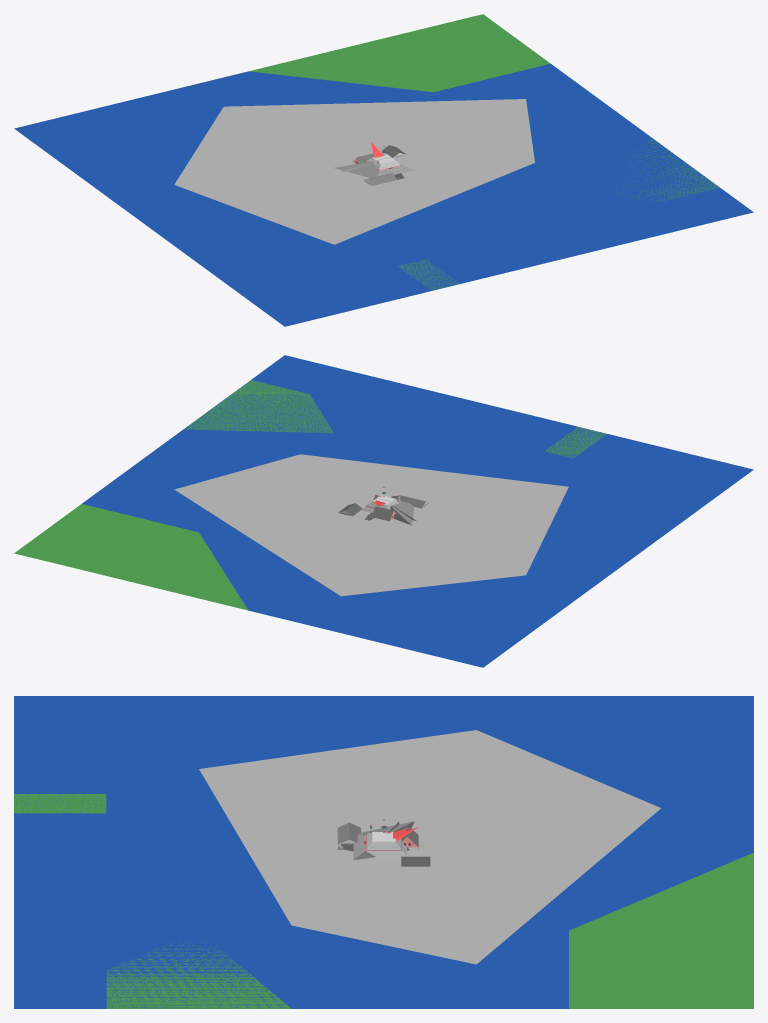
3 views of the same model, one above another, from view 1: azimuth 30°, elevation 25°; view 2: azimuth 150°, elevation 25°; view 3: azimuth 270°, elevation 25° (orthographic). The views are drawn at different scales.
Parts seen in each view (by area): view 1: pg_005_lod0, pg_021_lod0, pg_008_lod0, pg_007_lod0, pg_001_lod0, pg_009_lod0, pg_010_lod0; view 2: pg_005_lod0, pg_021_lod0, pg_008_lod0, pg_007_lod0, pg_001_lod0, pg_009_lod0, pg_040_lod0_s1v0; view 3: pg_005_lod0, pg_021_lod0, pg_008_lod0, pg_007_lod0, pg_001_lod0, pg_003_lod0, pg_043_lod0_s1v0, pg_040_lod0_s1v0, pg_010_lod0.
Part boxes in pixels (<box>): pg_005_lod0: <box>14,64,550,297</box>; pg_021_lod0: <box>174,99,534,244</box>; pg_008_lod0: <box>249,14,719,230</box>; pg_007_lod0: <box>217,14,753,326</box>; pg_001_lod0: <box>400,138,718,290</box>; pg_009_lod0: <box>398,259,460,290</box>; pg_010_lod0: <box>334,161,414,177</box>; pg_005_lod0: <box>82,434,685,667</box>; pg_021_lod0: <box>174,454,568,596</box>; pg_008_lod0: <box>14,380,438,610</box>; pg_007_lod0: <box>14,355,753,553</box>; pg_001_lod0: <box>184,380,605,457</box>; pg_009_lod0: <box>545,427,606,458</box>; pg_040_lod0_s1v0: <box>338,495,429,521</box>; pg_005_lod0: <box>14,696,753,1008</box>; pg_021_lod0: <box>199,730,660,964</box>; pg_008_lod0: <box>106,852,753,1008</box>; pg_007_lod0: <box>14,696,753,1008</box>; pg_001_lod0: <box>14,794,290,1008</box>; pg_003_lod0: <box>14,794,106,813</box>; pg_043_lod0_s1v0: <box>365,832,406,856</box>; pg_040_lod0_s1v0: <box>337,822,418,847</box>; pg_010_lod0: <box>353,821,414,860</box>.
Size of what is drawn, in the model's own units: 4096 by 200 by 4096.
